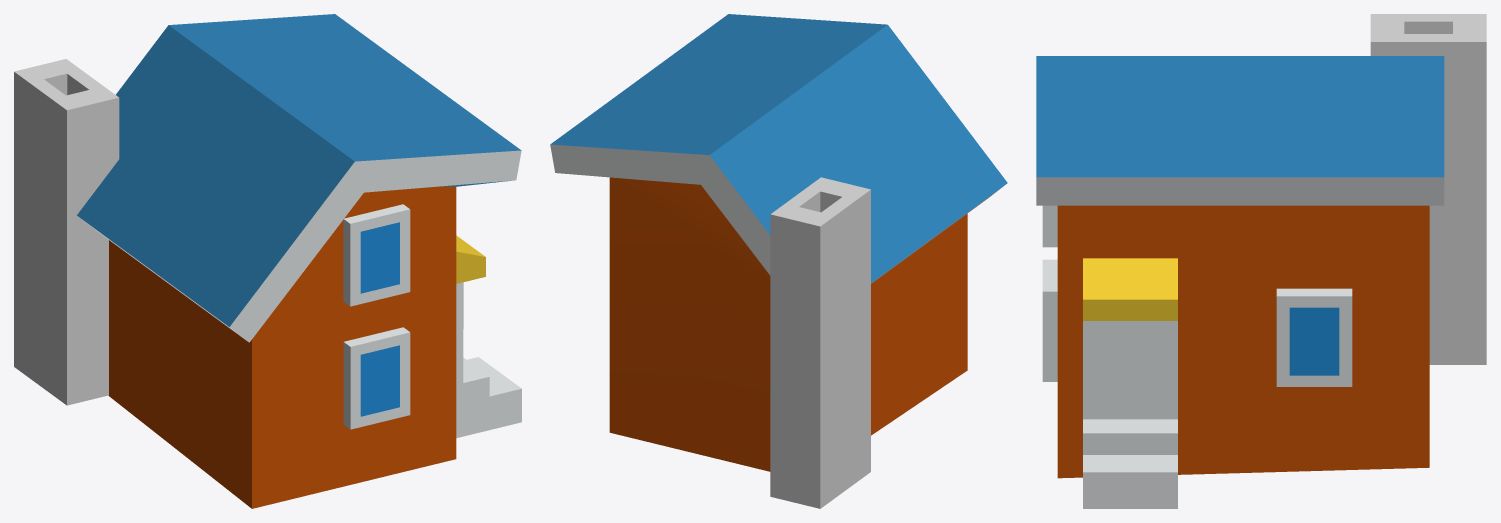
Rendered from house01_s02.FBX.
3 views of the same model, side by side, from view 1: azimuth 30°, elevation 25°; view 2: azimuth 150°, elevation 25°; view 3: azimuth 270°, elevation 25° (orthographic). The views are drawn at different scales.
Parts seen in each view (by area): view 1: house01_s02; view 2: house01_s02; view 3: house01_s02.
Part boxes in pixels (x1,y1,x2,y2): house01_s02: (14, 14, 521, 508); house01_s02: (550, 14, 1007, 508); house01_s02: (1036, 14, 1486, 508).
Bounding box in the file's own units: 463 × 510 × 454.
Materials: 1 (1 with a texture image).
